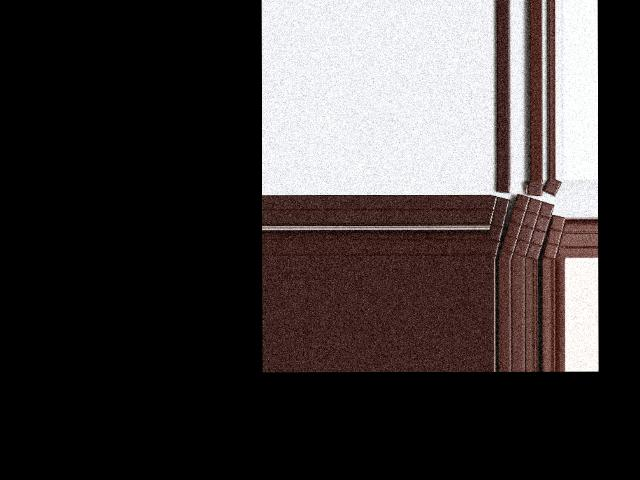chocolate: (500, 194, 555, 260)
